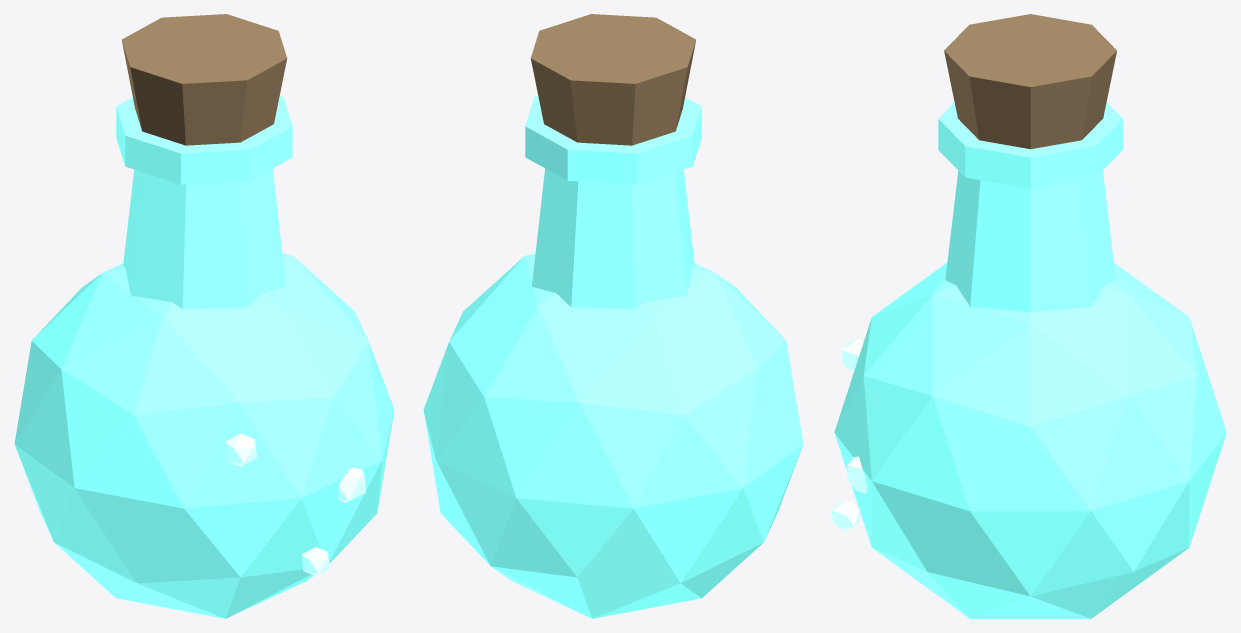
The model's file is slurp_juice.glb.
The picture shows the model from 3 angles, left to right: view 1: azimuth 30°, elevation 25°; view 2: azimuth 150°, elevation 25°; view 3: azimuth 270°, elevation 25°; orthographic projection.
Parts seen in each view (by area): view 1: slurp_juice; view 2: slurp_juice; view 3: slurp_juice.
Boxes of the visible parts, x1,y1,x2,y2 form: slurp_juice: (14, 14, 394, 618); slurp_juice: (423, 14, 803, 618); slurp_juice: (832, 14, 1226, 618).
Size of the model in its own units: 0.3072 by 0.5082 by 0.3248.
